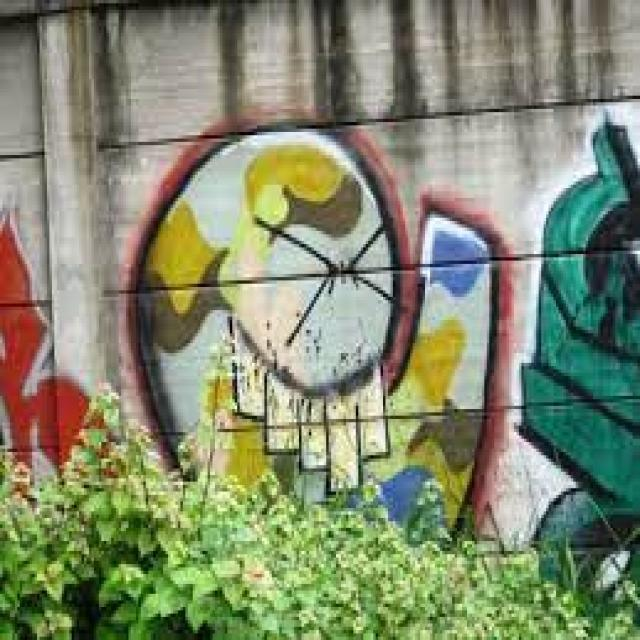-: (127, 121, 497, 539), (520, 112, 640, 559), (0, 215, 89, 490)
